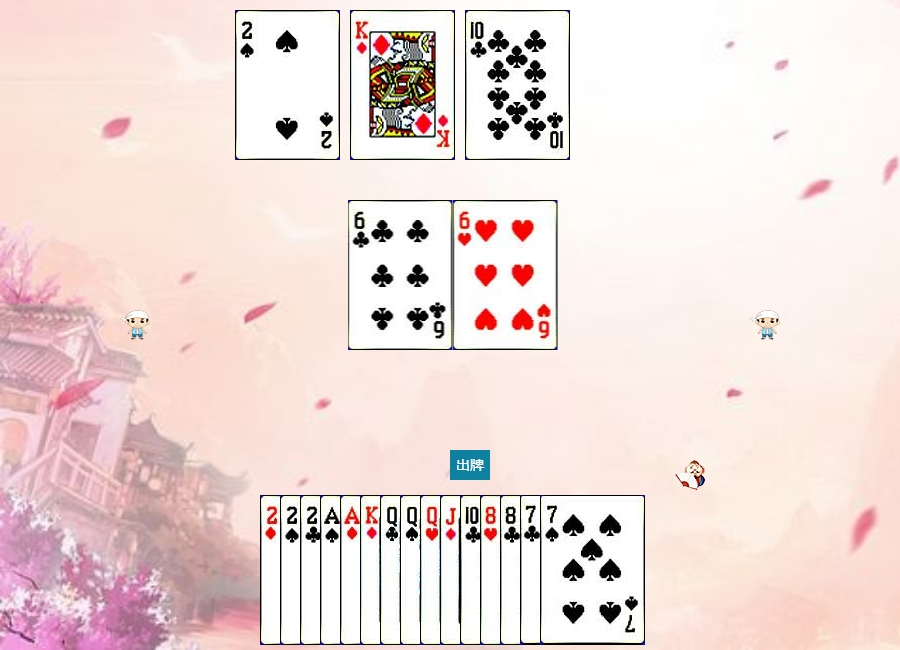10~2: (465, 10, 570, 160), (460, 495, 565, 645)
11~1: (440, 495, 545, 645)
12~2: (380, 495, 485, 645)
12~3: (420, 495, 525, 645)
12~4: (400, 495, 505, 645)
13~1: (350, 10, 455, 160), (360, 495, 465, 645)
14~1: (340, 495, 445, 645)
14~4: (320, 495, 425, 645)
15~1: (260, 495, 365, 645)
15~2: (300, 495, 405, 645)
15~4: (235, 10, 340, 160), (280, 495, 385, 645)
6~2: (348, 200, 453, 350)
6~3: (453, 200, 558, 350)
7~2: (520, 495, 625, 645)
7~4: (540, 495, 645, 645)
8~2: (500, 495, 605, 645)
8~3: (480, 495, 585, 645)
